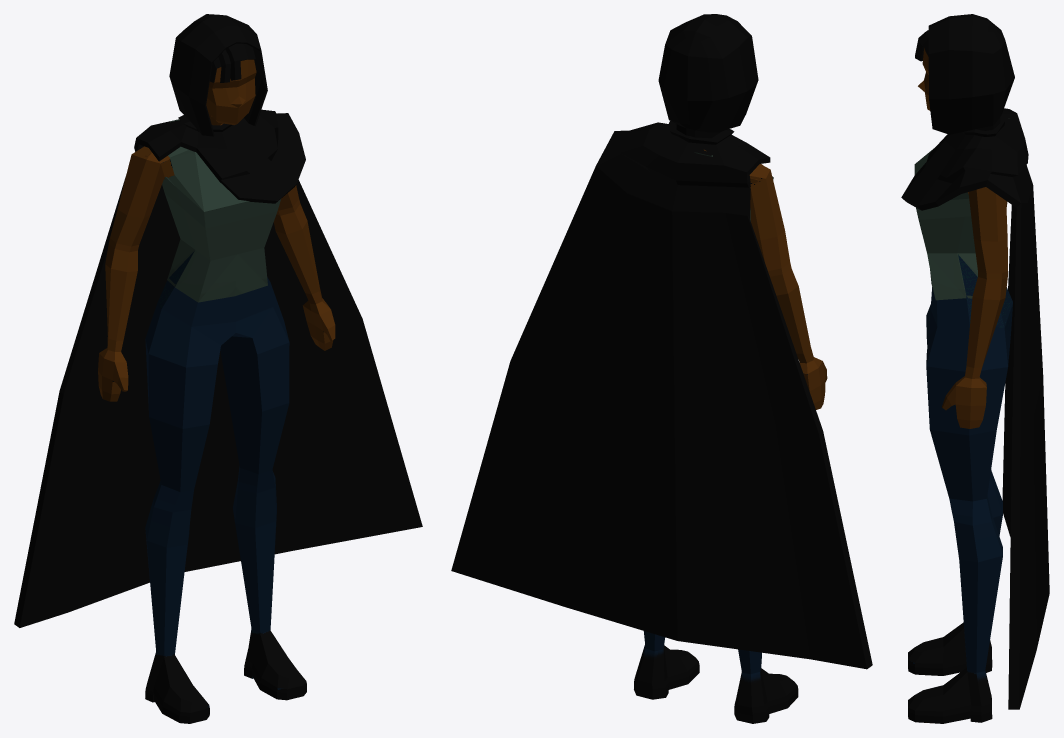
The model's file is Character.glb.
3 views of the same model, side by side, from view 1: azimuth 30°, elevation 25°; view 2: azimuth 150°, elevation 25°; view 3: azimuth 270°, elevation 25° (orthographic).
Visible parts, largest first — view 1: character.001, character, shirt, character.002, hair; view 2: character.001, character, character.002; view 3: character, character.001, character.002, shirt, hair.
Boxes of the visible parts, x1=… form: character.001: x1=14, y1=109, x2=422, y2=627; character: x1=98, y1=59, x2=335, y2=723; shirt: x1=162, y1=119, x2=280, y2=302; character.002: x1=169, y1=14, x2=267, y2=136; hair: x1=210, y1=43, x2=258, y2=82; character.001: x1=451, y1=121, x2=872, y2=669; character: x1=634, y1=149, x2=827, y2=723; character.002: x1=658, y1=14, x2=758, y2=138; character: x1=908, y1=48, x2=1012, y2=723; character.001: x1=901, y1=108, x2=1049, y2=709; character.002: x1=928, y1=14, x2=1014, y2=134; shirt: x1=914, y1=118, x2=1009, y2=300; hair: x1=915, y1=30, x2=928, y2=61.
Bounding box in the file's own units: 0.5809 × 0.9186 × 0.1831.
Materials: 5 (5 with a texture image).
